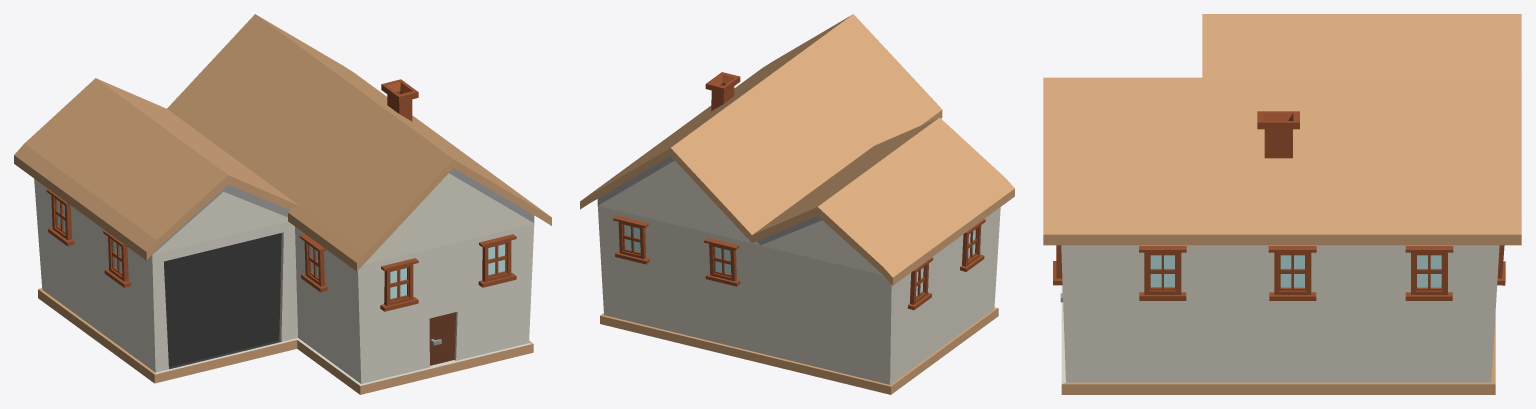
Rendered from casa5.glb.
The picture shows the model from 3 angles, left to right: view 1: azimuth 30°, elevation 25°; view 2: azimuth 150°, elevation 25°; view 3: azimuth 270°, elevation 25°; orthographic projection. The views are drawn at different scales.
Visible parts, largest first — view 1: House5_Cube.000; view 2: House5_Cube.000; view 3: House5_Cube.000.
Boxes of the visible parts, x1,y1,x2,y2 form: House5_Cube.000: [14, 14, 551, 394]; House5_Cube.000: [580, 14, 1014, 394]; House5_Cube.000: [1043, 14, 1521, 394].
Bounding box in the file's own units: 2.16 × 1.34 × 2.19.
1 material, 1 textured.
